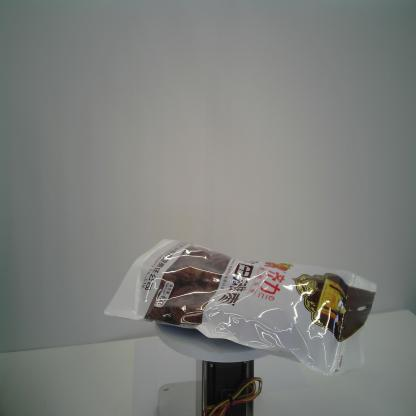Dried Food: (101, 236, 380, 381)
